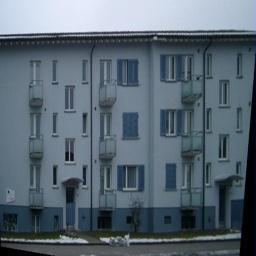building: (0, 20, 256, 229)
